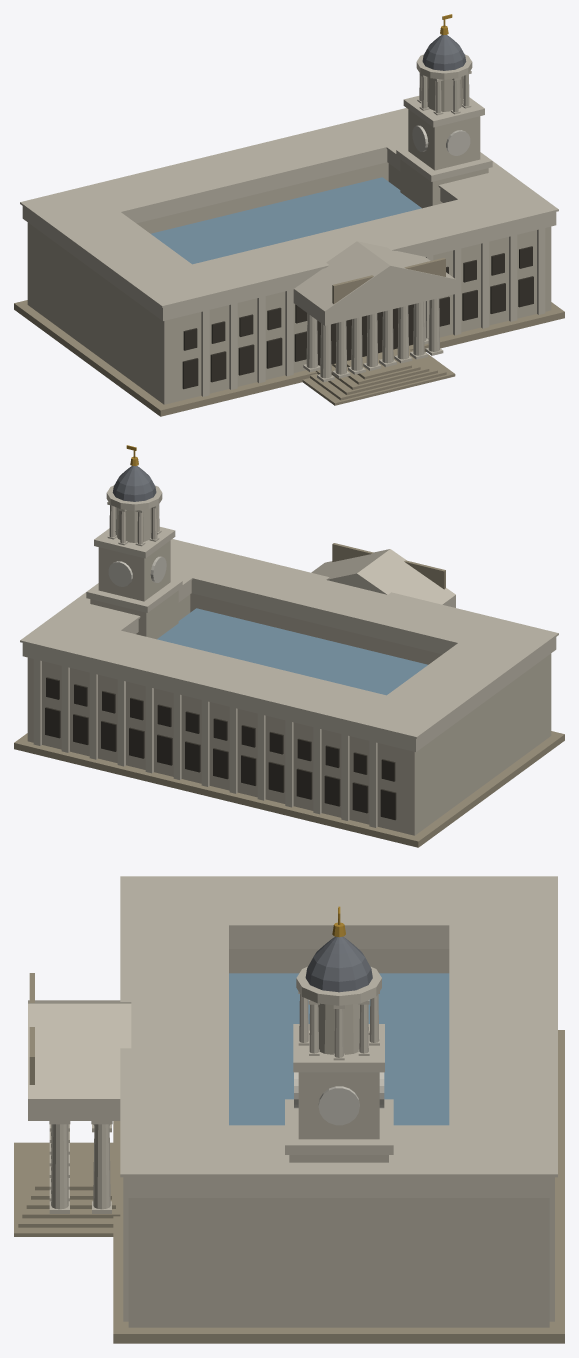
The model's file is royal_exchange.glb.
3 views of the same model, one above another, from view 1: azimuth 30°, elevation 25°; view 2: azimuth 150°, elevation 25°; view 3: azimuth 270°, elevation 25° (orthographic). The views are drawn at different scales.
Parts seen in each view (by area): view 1: royal_exchange; view 2: royal_exchange; view 3: royal_exchange.
Part boxes in pixels (x1=…): royal_exchange: x1=14, y1=14, x2=564, y2=416; royal_exchange: x1=14, y1=445, x2=564, y2=847; royal_exchange: x1=14, y1=876, x2=564, y2=1343.
Size of the model in its own units: 94 by 57.7 by 72.
